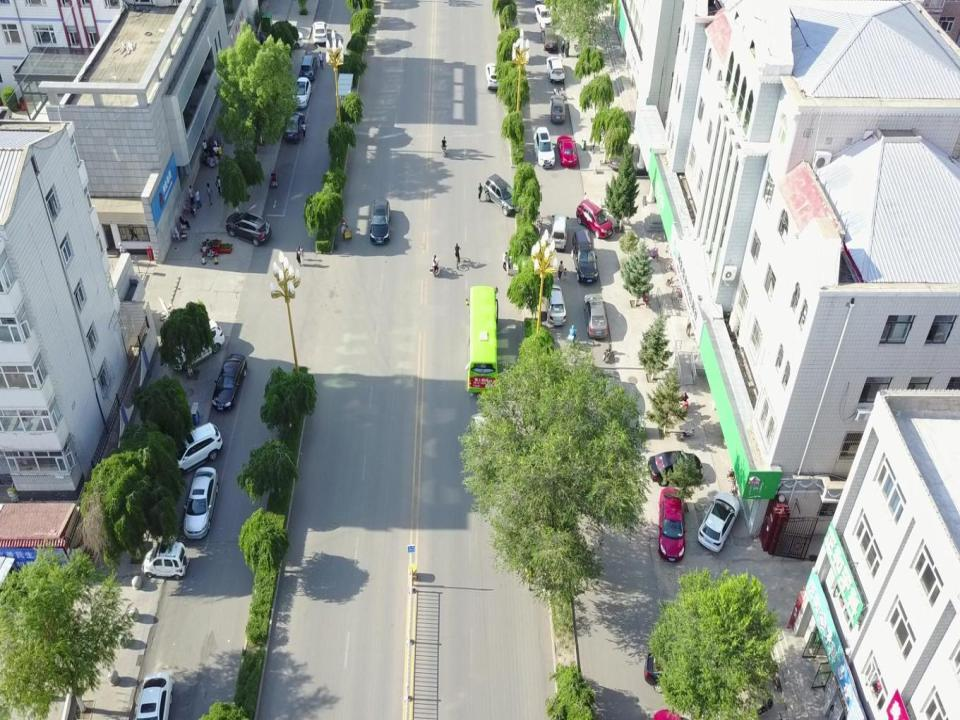bus: (466, 286, 498, 395)
car: (167, 421, 220, 479), (172, 315, 223, 371), (697, 496, 738, 551), (184, 468, 216, 538), (212, 355, 248, 411), (645, 650, 698, 688), (660, 486, 686, 562), (648, 452, 702, 485), (224, 211, 270, 248), (483, 172, 519, 219), (138, 674, 173, 720), (571, 229, 599, 285), (577, 200, 615, 237), (584, 294, 609, 340), (369, 198, 392, 246), (545, 284, 566, 327), (532, 128, 554, 168), (485, 62, 506, 94), (284, 113, 303, 148), (558, 134, 578, 166), (292, 77, 310, 109), (546, 55, 566, 83), (299, 54, 316, 82), (534, 3, 552, 29), (539, 28, 558, 51), (313, 21, 328, 44), (431, 260, 440, 280), (453, 248, 462, 268), (439, 141, 448, 156)
van: (142, 543, 188, 581), (551, 214, 569, 251), (550, 93, 566, 124)
